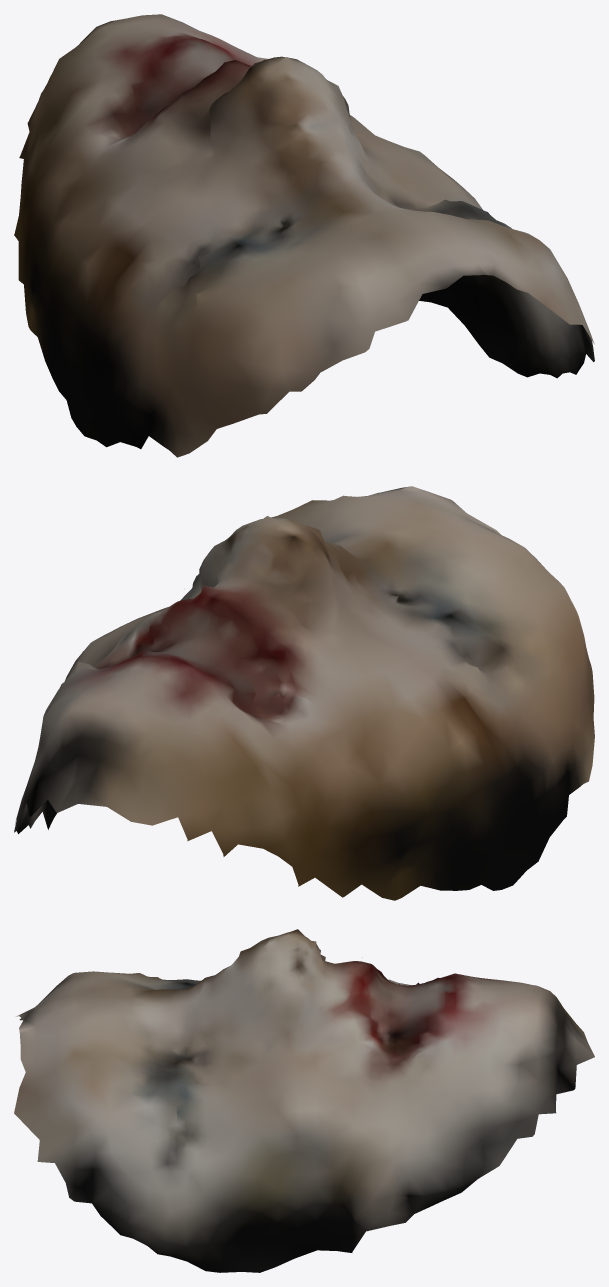
3 renders of one model, top to bottom at view 1: azimuth 30°, elevation 25°; view 2: azimuth 150°, elevation 25°; view 3: azimuth 270°, elevation 25°, orthographic. The views are drawn at different scales.
Size of the model in its own units: 0.6888 by 0.5343 by 1.06.
